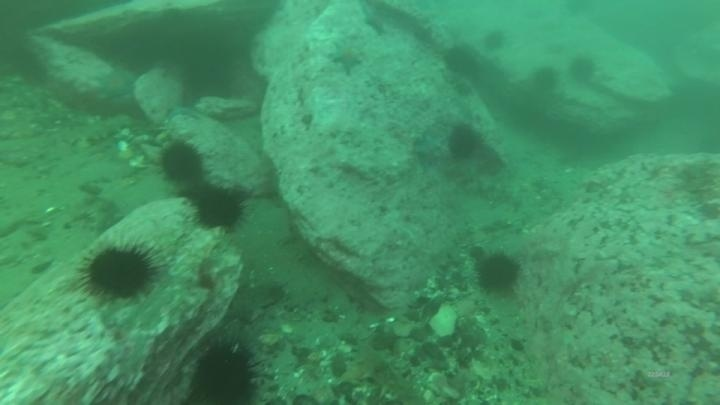echinus: (79, 240, 161, 303), (188, 337, 262, 404), (193, 186, 247, 232), (158, 139, 205, 185), (475, 251, 523, 295), (445, 122, 483, 162), (441, 44, 481, 78), (567, 54, 599, 86), (529, 65, 561, 95), (481, 28, 508, 54)
holothurian: (342, 343, 426, 404), (54, 113, 133, 149)
starfish: (94, 66, 138, 101), (410, 130, 445, 171), (328, 40, 366, 75), (361, 11, 390, 37)
